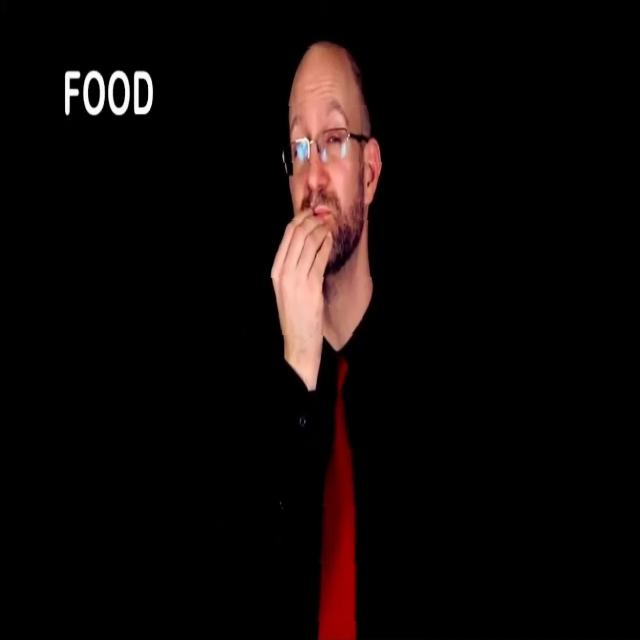Food: (243, 27, 423, 640)
